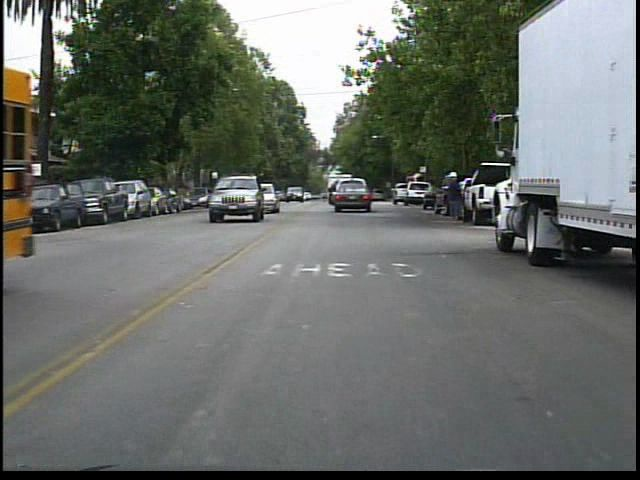person: (442, 169, 469, 225)
